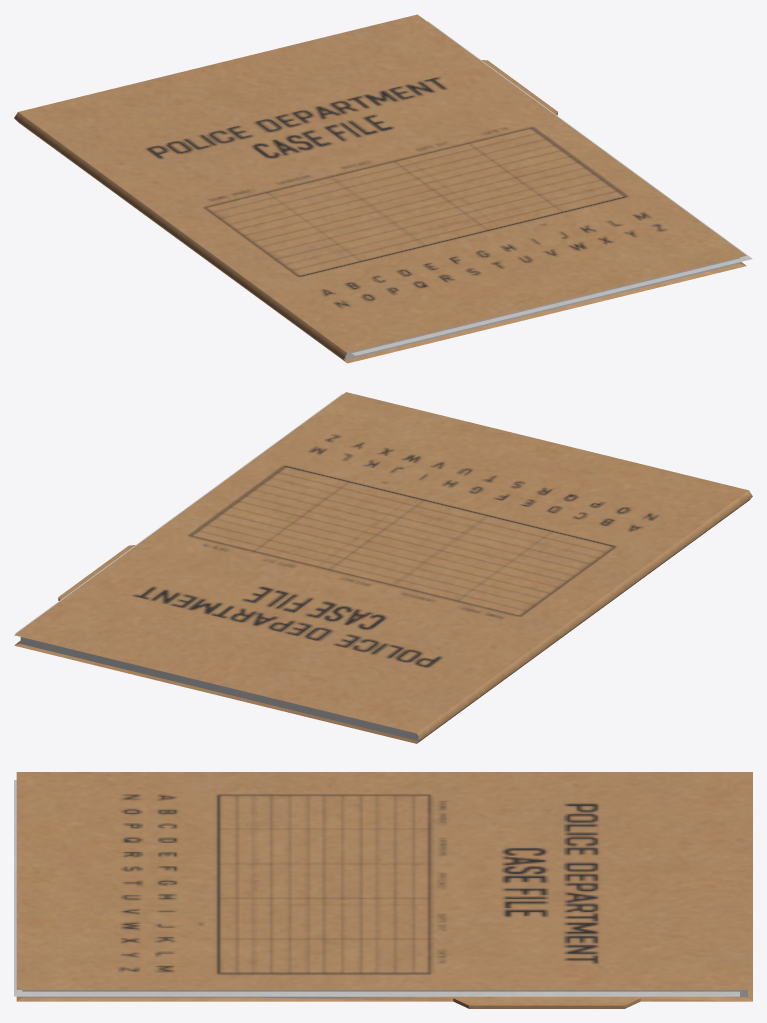
The model's file is FBX_FolderA.fbx.
3 renders of one model, top to bottom at view 1: azimuth 30°, elevation 25°; view 2: azimuth 150°, elevation 25°; view 3: azimuth 270°, elevation 25°, orthographic. The views are drawn at different scales.
Parts seen in each view (by area): view 1: SM_FolderA; view 2: SM_FolderA; view 3: SM_FolderA.
Part boxes in pixels (<box>): SM_FolderA: <box>14,14,752,363</box>; SM_FolderA: <box>14,392,752,743</box>; SM_FolderA: <box>14,772,752,1008</box>.
Size of the model in its own units: 0.2201 by 0.00522 by 0.3024.
